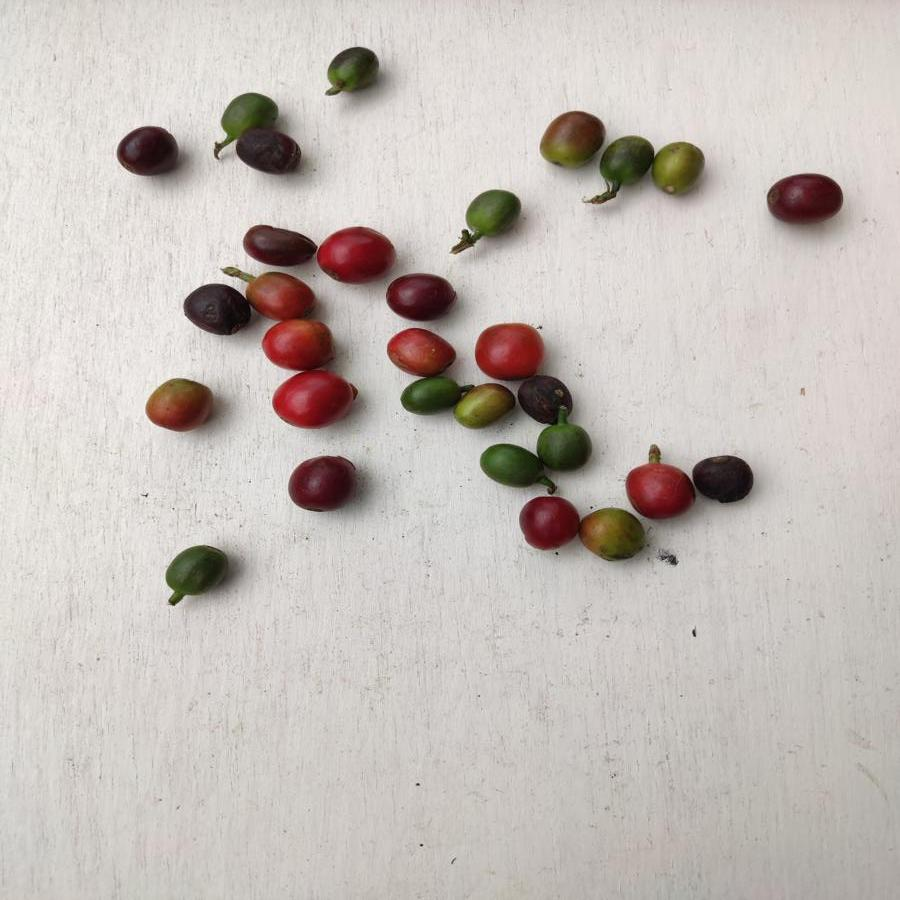Inmaduro: (162, 543, 228, 602), (463, 188, 521, 242), (476, 441, 542, 487), (599, 135, 654, 187), (537, 424, 592, 473), (217, 93, 282, 133), (324, 46, 380, 90), (401, 377, 461, 417)
Maduro: (271, 368, 352, 427), (317, 228, 392, 282), (475, 321, 543, 375), (262, 321, 336, 370), (628, 465, 696, 516), (248, 274, 322, 319), (388, 327, 458, 373)
Pinton: (146, 378, 213, 434), (579, 508, 647, 563), (540, 112, 603, 168), (651, 139, 706, 196), (457, 384, 514, 430)
Sobremaduro: (765, 172, 843, 224), (183, 280, 248, 338), (288, 457, 356, 512), (520, 495, 578, 556), (241, 222, 318, 267), (692, 451, 757, 504), (234, 127, 304, 176), (385, 272, 456, 320), (114, 124, 180, 175), (517, 372, 576, 424)
